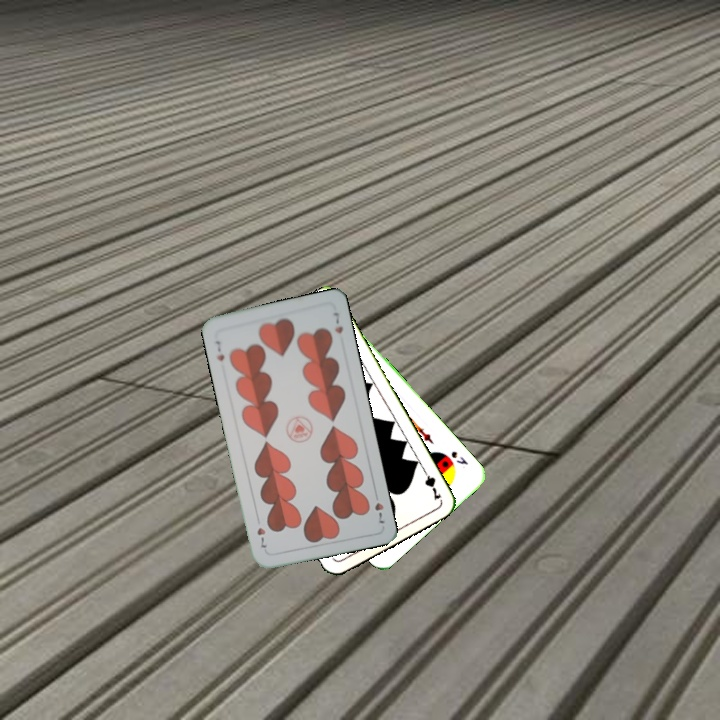G7: (418, 464, 444, 503)
H7: (370, 488, 387, 526), (211, 336, 227, 364)
SK: (447, 447, 471, 471)
